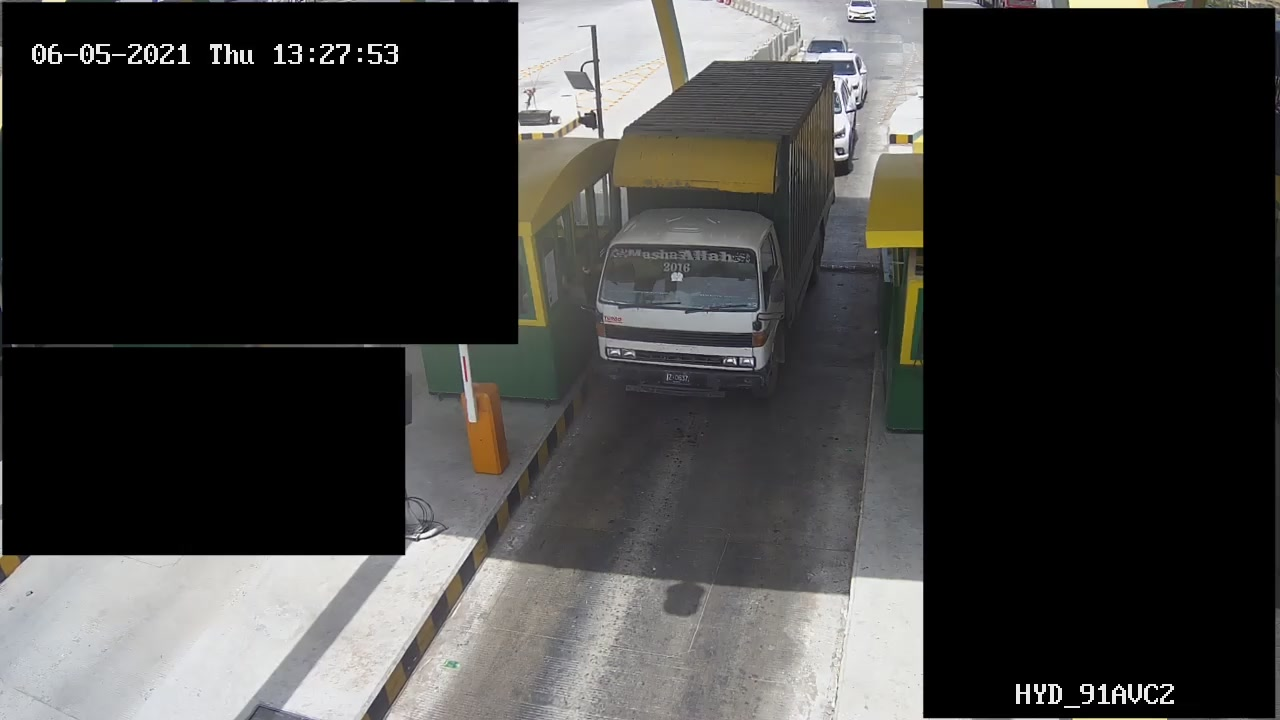F5: (587, 57, 838, 412)
